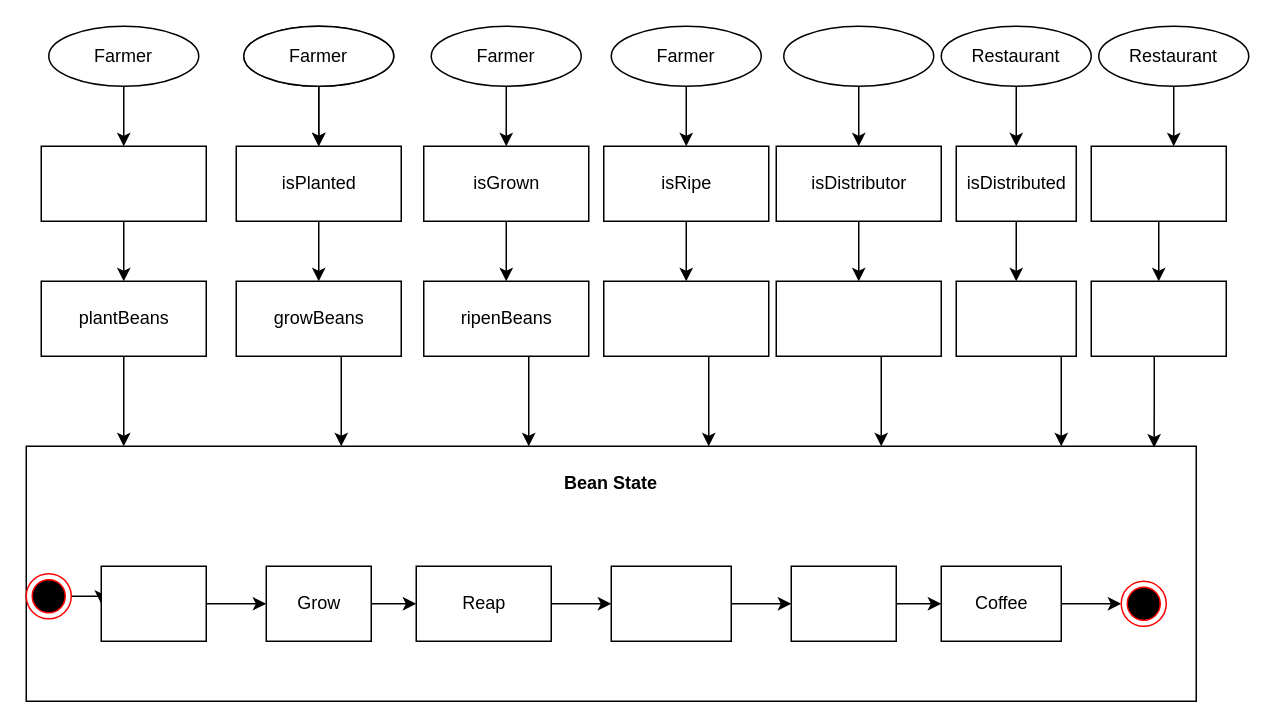
Image size: 1275x728. Some labels were removed from this diagram. The centre of each missing label's shape, as x and y in pixels:
"contactDistributor" goes at point (685, 318).
"distributeBeans" goes at point (858, 318).
"Distributor" goes at point (858, 55).
"Ground" goes at point (843, 603).
"groundCoffee" goes at point (1015, 318).
"isFarmer" goes at point (123, 183).
"isGround" goes at point (1158, 183).
"makeCoffee" goes at point (1158, 318).
"Plant" goes at point (153, 603).
"Transport" goes at point (670, 603).
